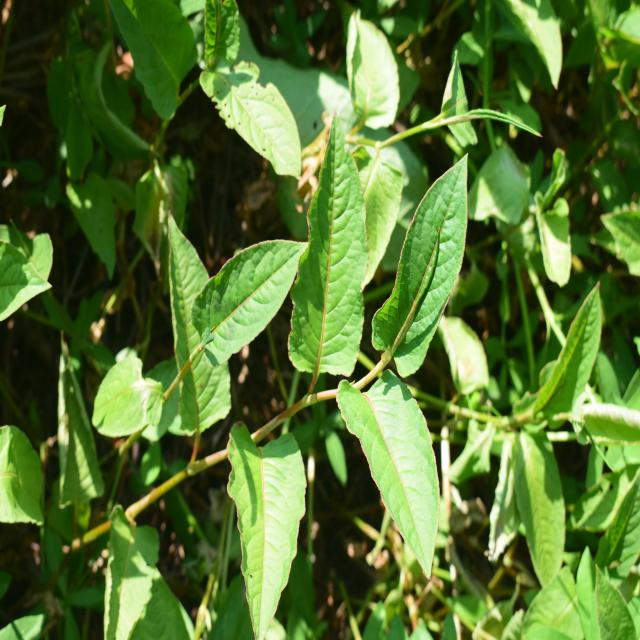Chinese_knotweed: (231, 138, 458, 599)
